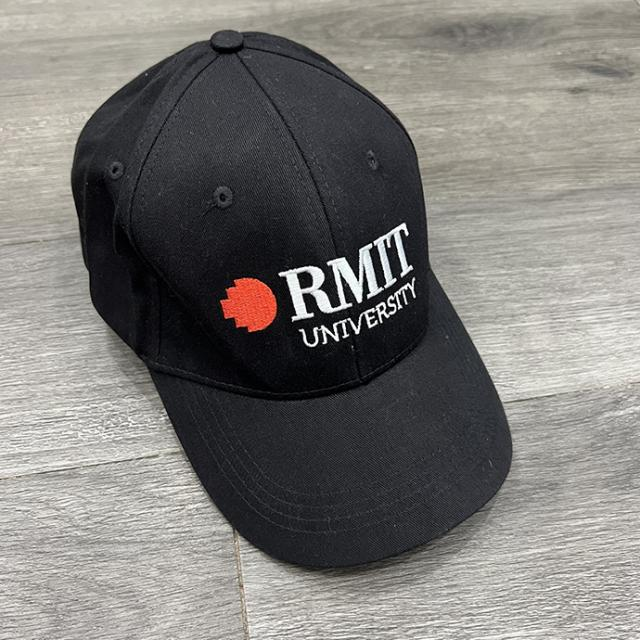no_helmet: (58, 21, 522, 580)
